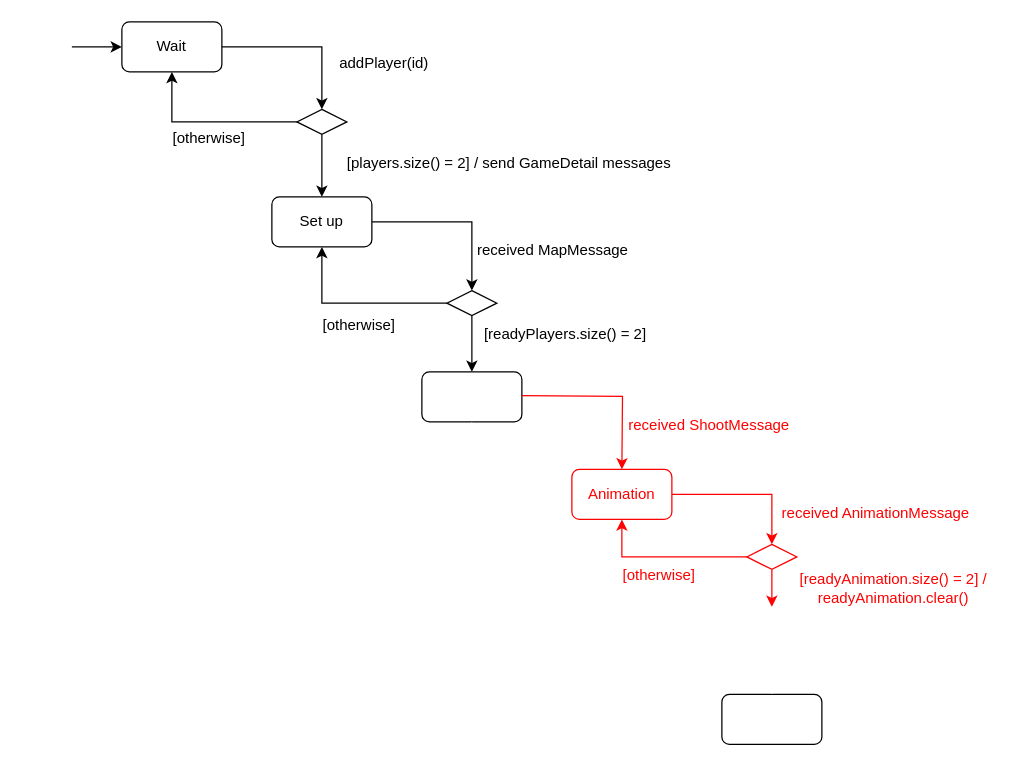
Image size: 1031x766. Some labels were removed from this diagram. The shapes that lost their labels are listed below. From the top down, each one's centre as x and y in pixels, then its label:
(471,396): Battle
(771,718): Game over
